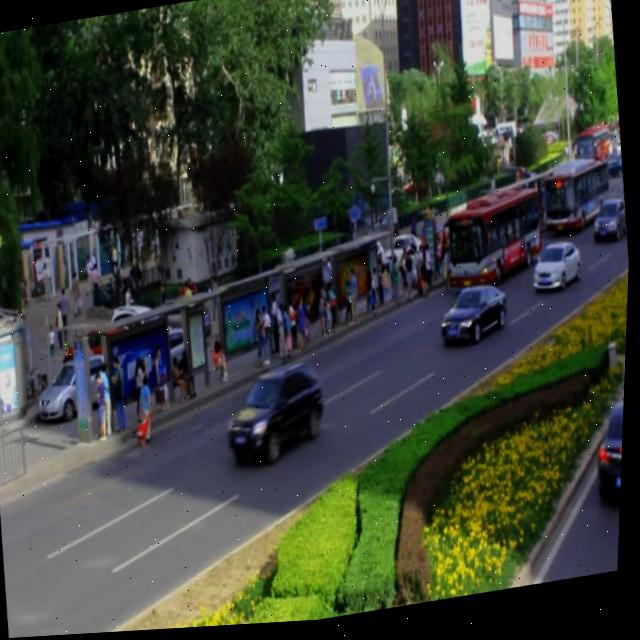car: (223, 360, 331, 469), (437, 284, 511, 353), (530, 240, 584, 300), (590, 203, 630, 249)
van: (436, 189, 543, 301), (538, 159, 613, 241)
